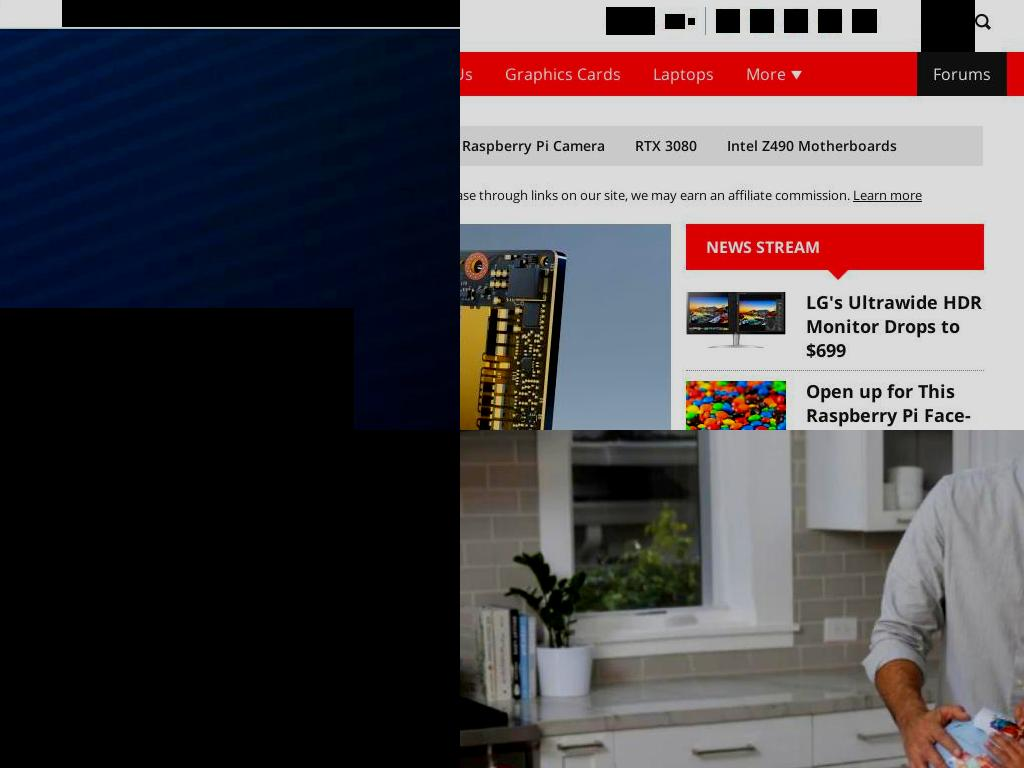button: (686, 282, 984, 370), (686, 371, 984, 430), (713, 126, 911, 166), (489, 52, 637, 96), (460, 126, 619, 166), (637, 52, 730, 96), (917, 52, 1007, 96), (621, 126, 711, 166), (460, 52, 489, 96), (852, 9, 877, 33)
heading: (0, 308, 354, 430), (806, 290, 984, 362), (806, 379, 984, 430), (706, 236, 821, 258)
image: (460, 224, 671, 430), (686, 292, 787, 349), (686, 381, 787, 430), (716, 9, 740, 33), (750, 9, 774, 33), (784, 9, 808, 33), (818, 9, 842, 33), (665, 14, 685, 29), (688, 18, 695, 25)
link: (853, 186, 922, 204), (852, 11, 877, 30)
text: (0, 430, 460, 768), (62, 0, 460, 27), (460, 186, 853, 204), (921, 0, 975, 52), (505, 63, 621, 85), (606, 7, 655, 35), (653, 63, 714, 85), (746, 63, 790, 85), (460, 63, 473, 85)
